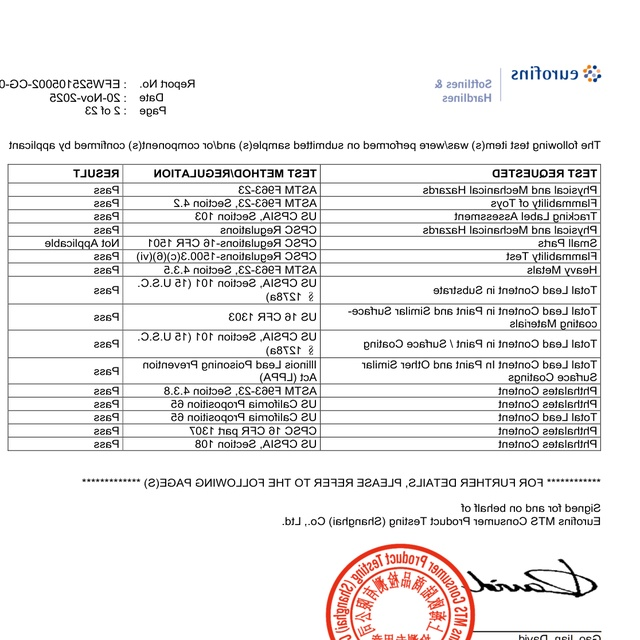eurofins: (508, 59, 612, 91)
